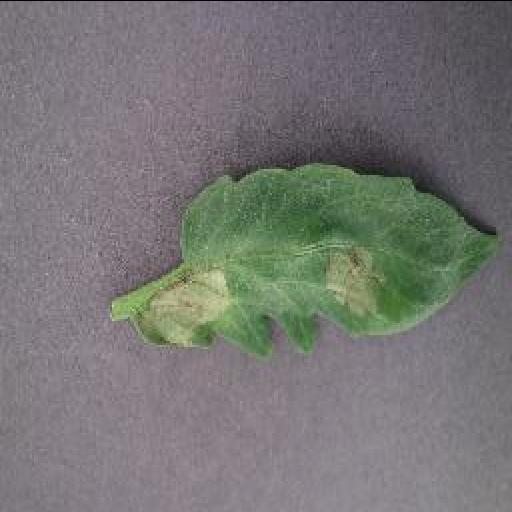disease_tomato: (133, 158, 503, 358)
